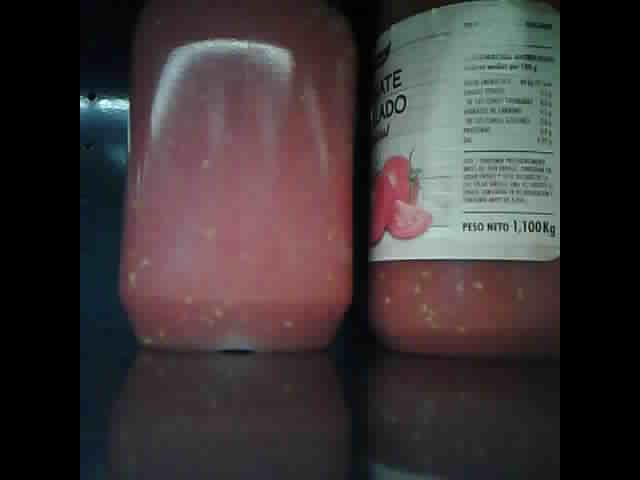tomate: (118, 9, 359, 353), (364, 4, 558, 353)
